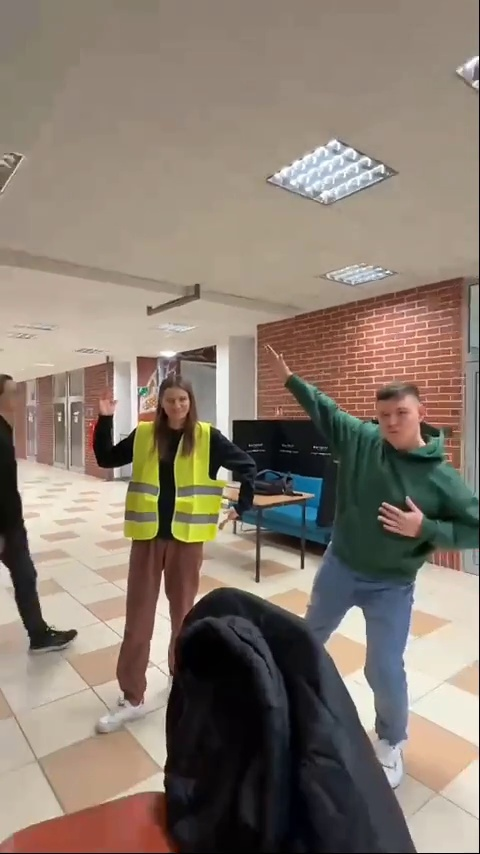no vest: (279, 350, 465, 735)
vest: (110, 371, 259, 732)
